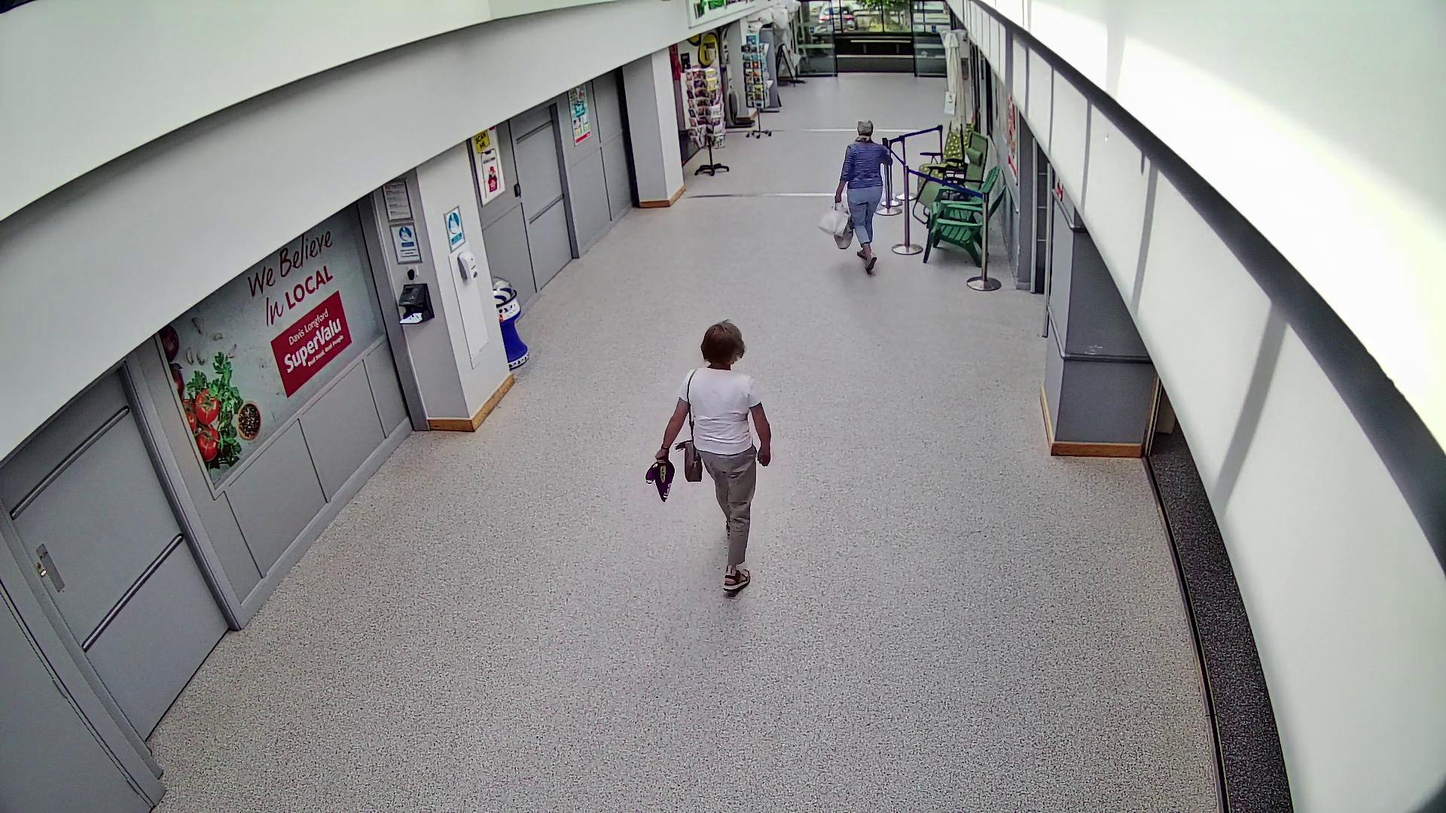backpack-or-handbag: (677, 438, 703, 482)
empty-shopping-bags: (647, 457, 675, 501)
filled-shopping-bags: (817, 201, 854, 250)
person: (644, 319, 772, 595), (816, 120, 893, 273)
person-with-backpack-handbag-and-shopping-bag-s-: (644, 319, 772, 594)
person-with-filled-shopping-bag-s-: (816, 120, 893, 273)
